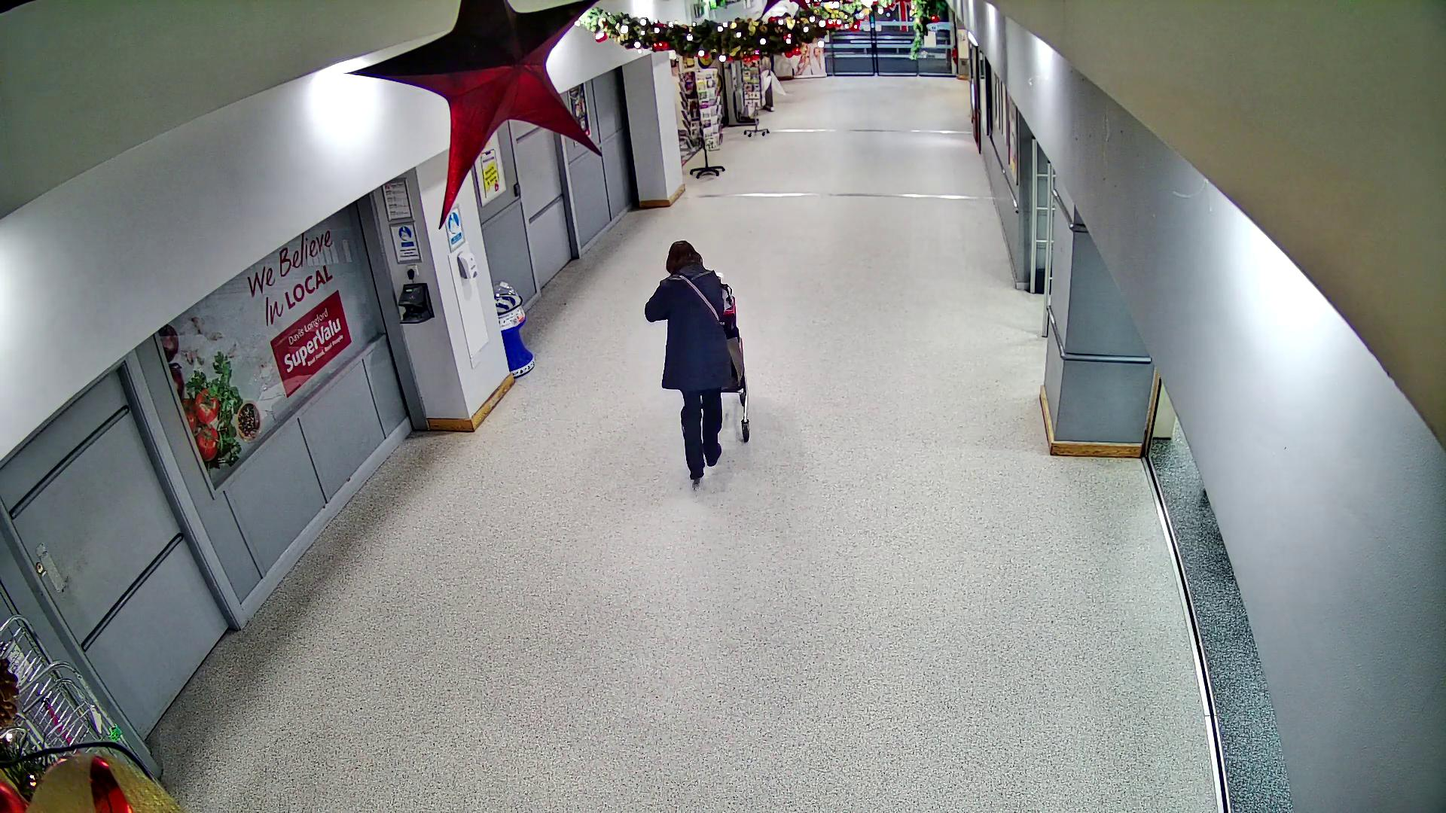filled-trolly: (680, 287, 749, 441)
person: (644, 239, 729, 480)
person-with-filled-basket-trolly: (645, 238, 750, 481)
